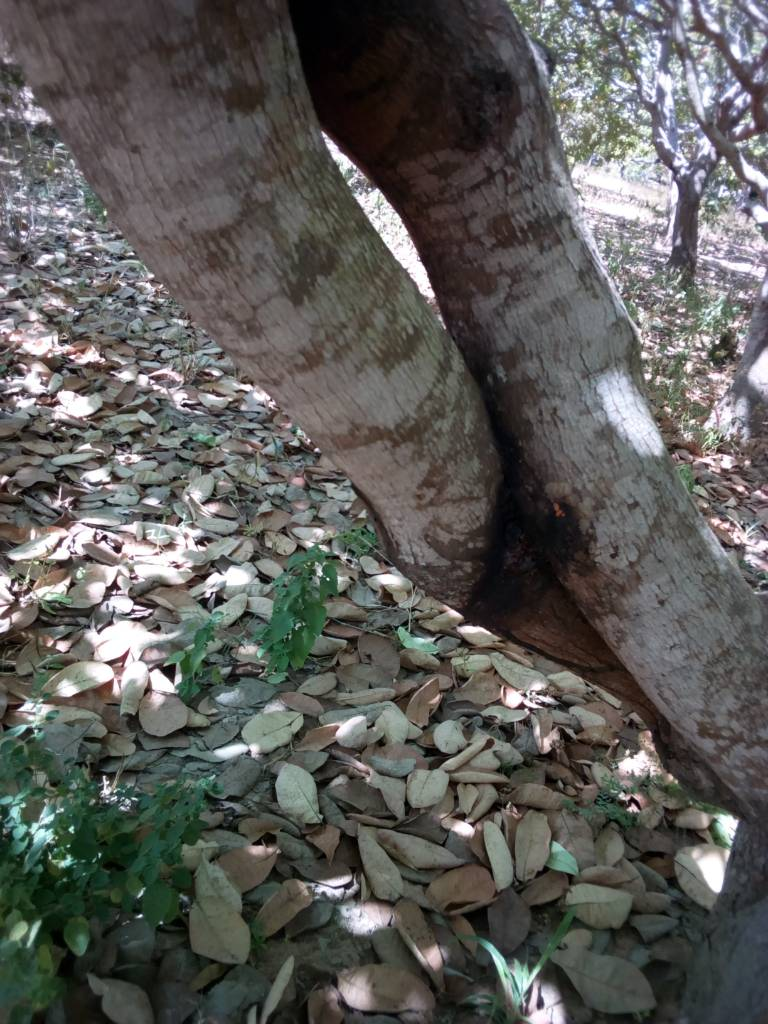Pestalotiose: (477, 463, 566, 636)
